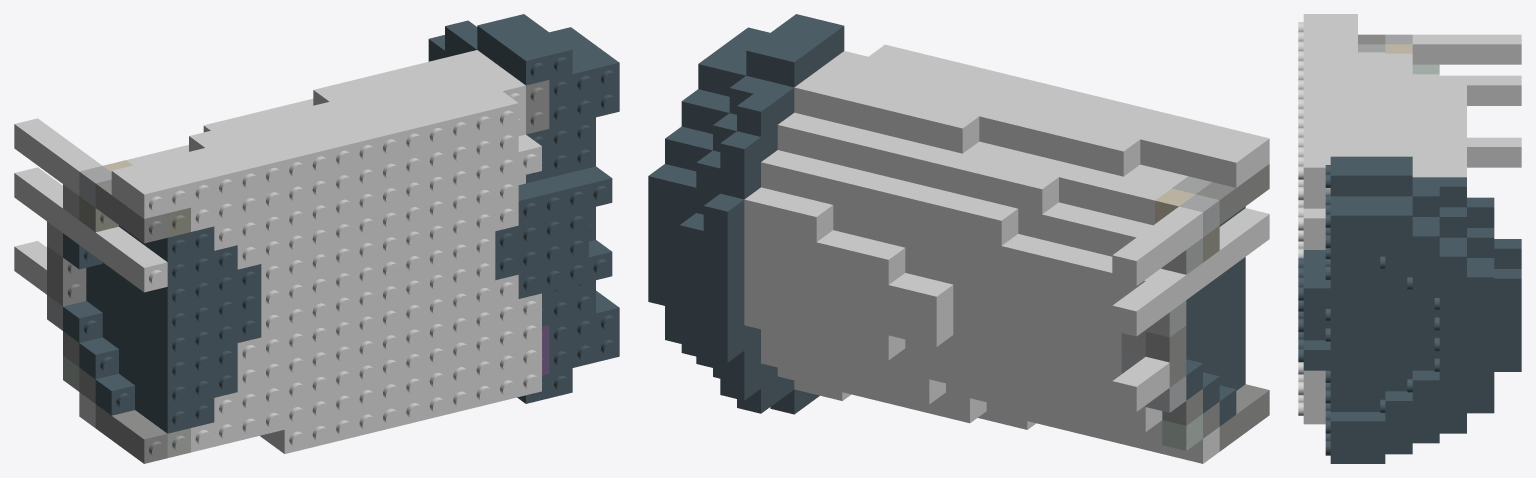
File: full.glb
3 renders of one model, left to right at view 1: azimuth 30°, elevation 25°; view 2: azimuth 150°, elevation 25°; view 3: azimuth 270°, elevation 25°, orthographic. The views are drawn at different scales.
Visible parts, largest first — view 1: world; view 2: world; view 3: world.
Part boxes in pixels (left/top/right/bottom): world: left=14, top=14, right=619, bottom=463; world: left=648, top=14, right=1269, bottom=463; world: left=1298, top=14, right=1521, bottom=463.
Size of the model in its own units: 168 by 112 by 78.6.
